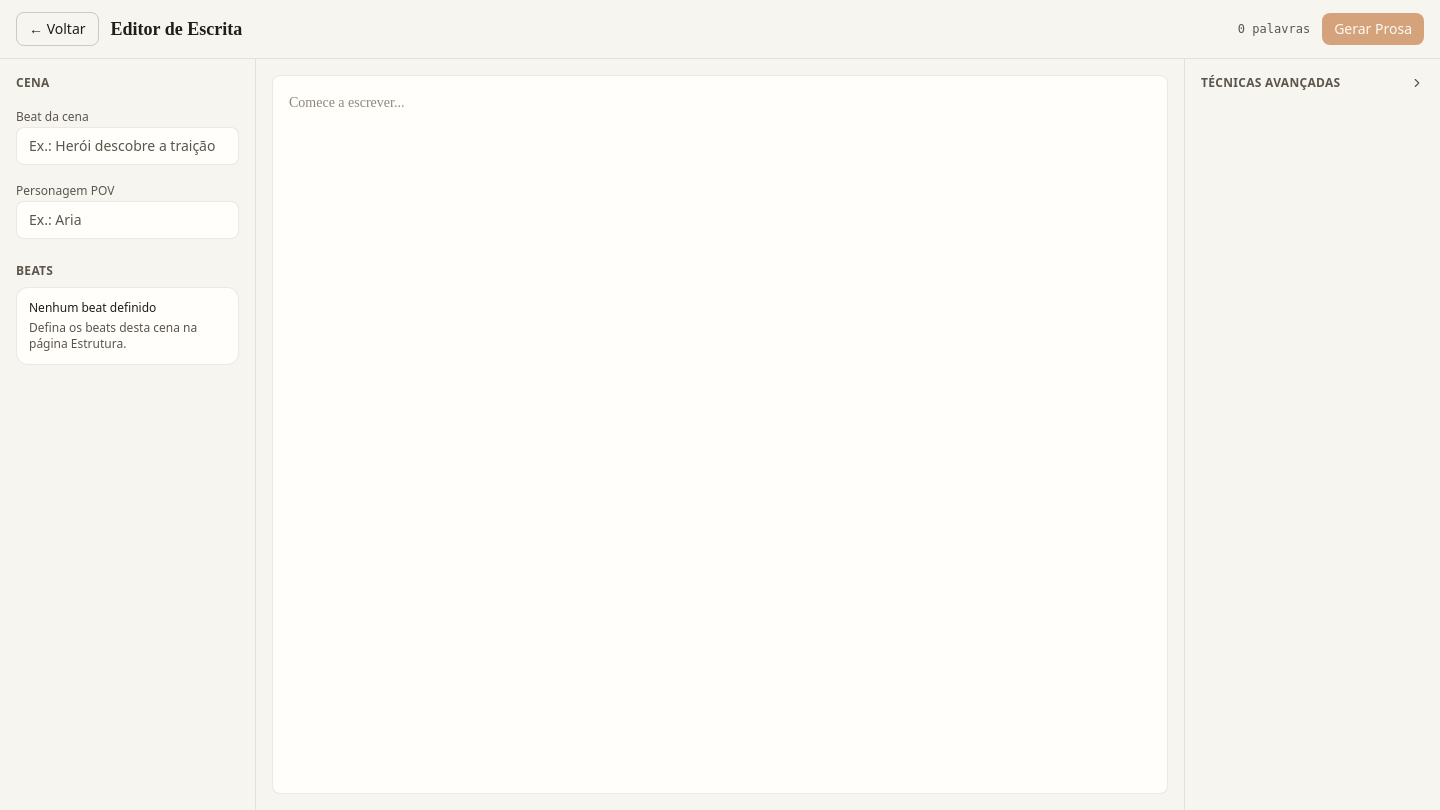
Test: WritingPage › geração de prosa › injeta contexto do Codex (RAG) no prompt quando há entidades correspondentes
In the field labelled "Beat da cena": [128, 146] box [16,127,239,165], type "Herói descobre a traição"
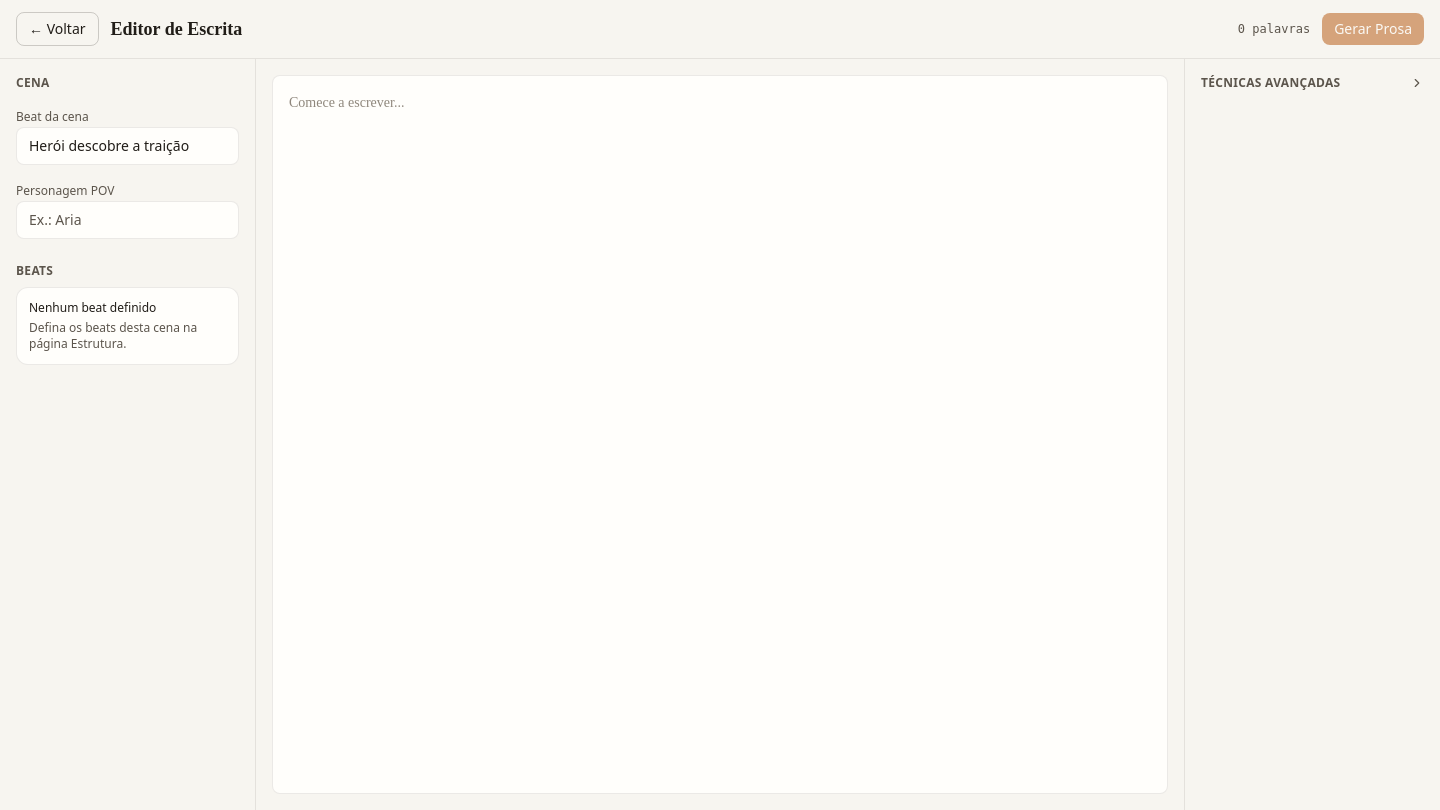
In the field labelled "Personagem POV": [128, 220] box [16,201,239,239], type "Aria"
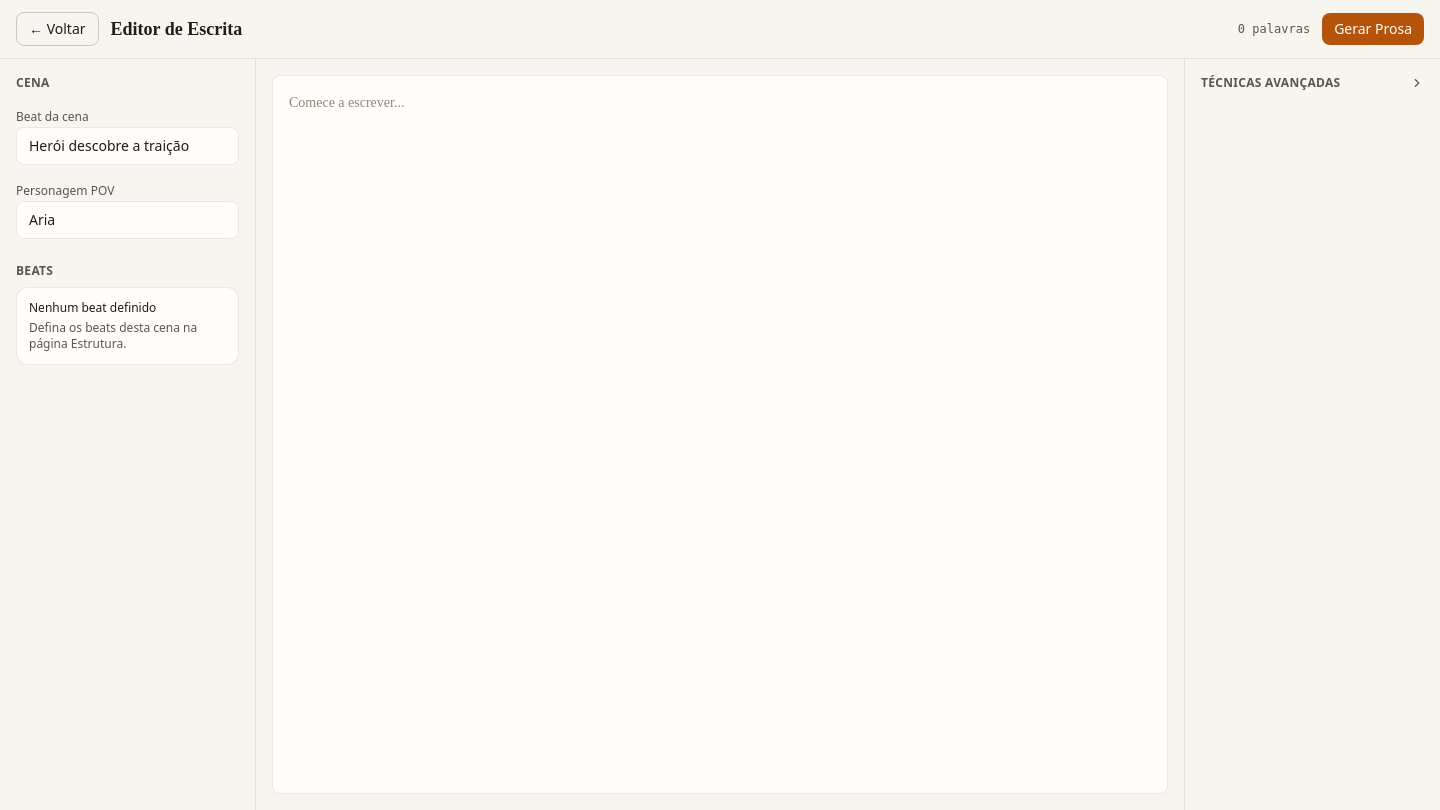
Click the button "Gerar Prosa": [1373, 29] box [1322,13,1424,45]
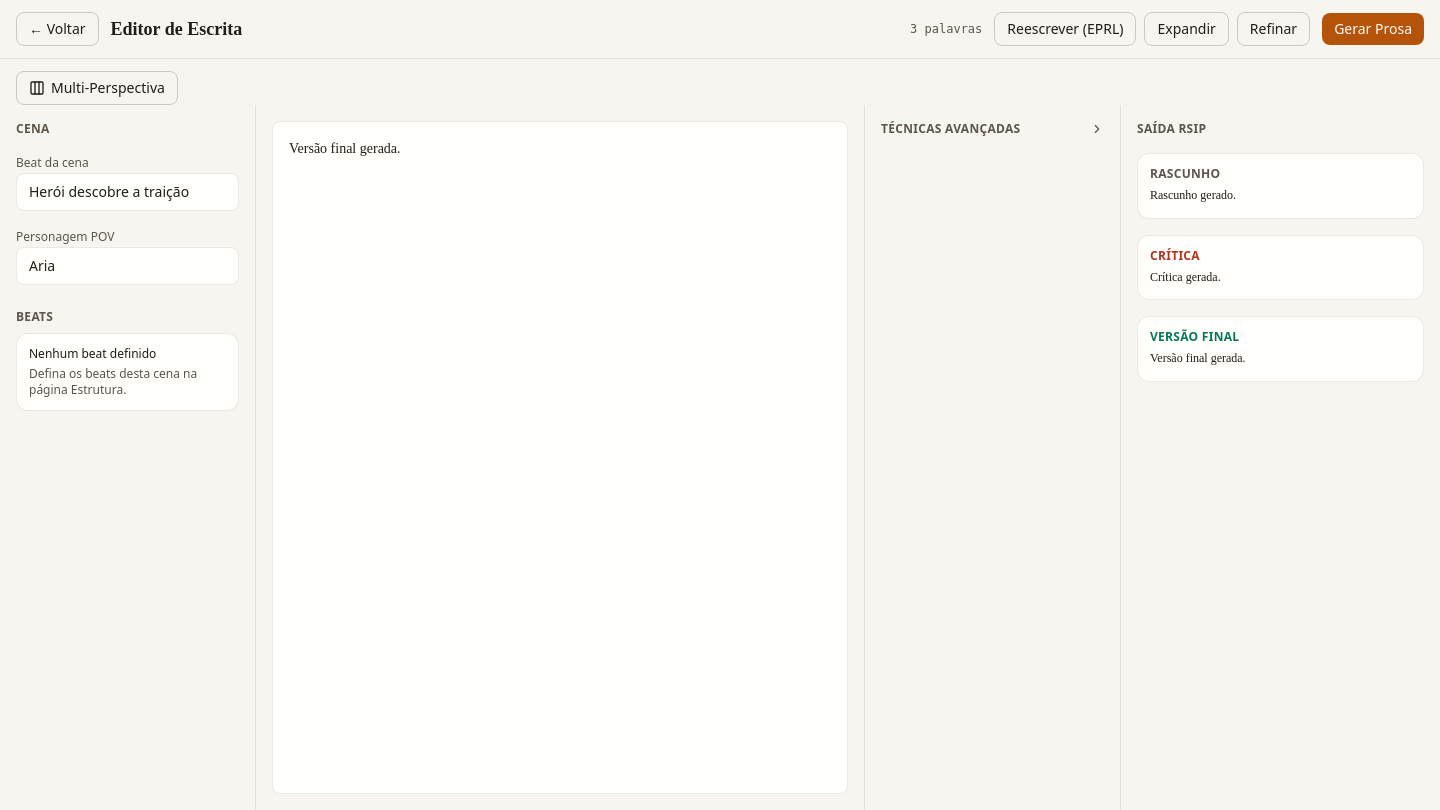
Expected: the element "Saída RSIP" is shown, [1120,105,1439,809]
